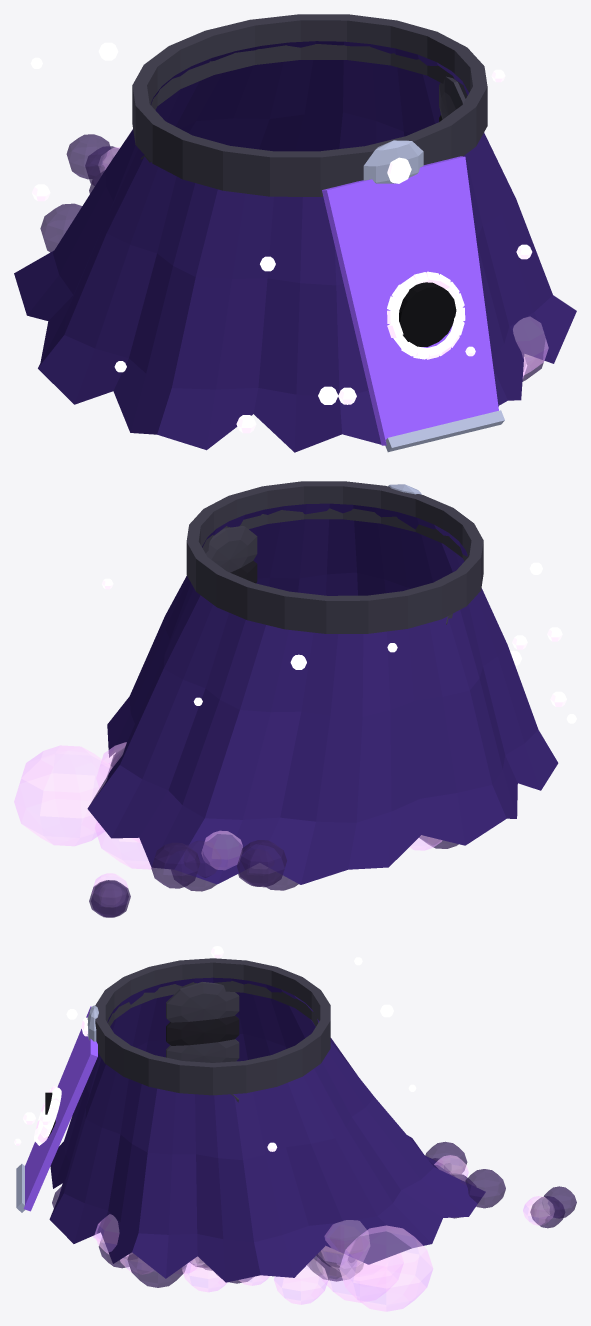
The model's file is the_uninvited_robes.glb.
The picture shows the model from 3 angles, top to bottom: view 1: azimuth 30°, elevation 25°; view 2: azimuth 150°, elevation 25°; view 3: azimuth 270°, elevation 25°; orthographic projection. The views are drawn at different scales.
Parts seen in each view (by area): view 1: the_uninvited_robes; view 2: the_uninvited_robes; view 3: the_uninvited_robes.
Boxes of the visible parts, <box> form: the_uninvited_robes: <box>14,14,576,452</box>; the_uninvited_robes: <box>14,481,576,917</box>; the_uninvited_robes: <box>14,946,576,1311</box>.
Size of the model in its own units: 1.68 by 1.06 by 2.18.
